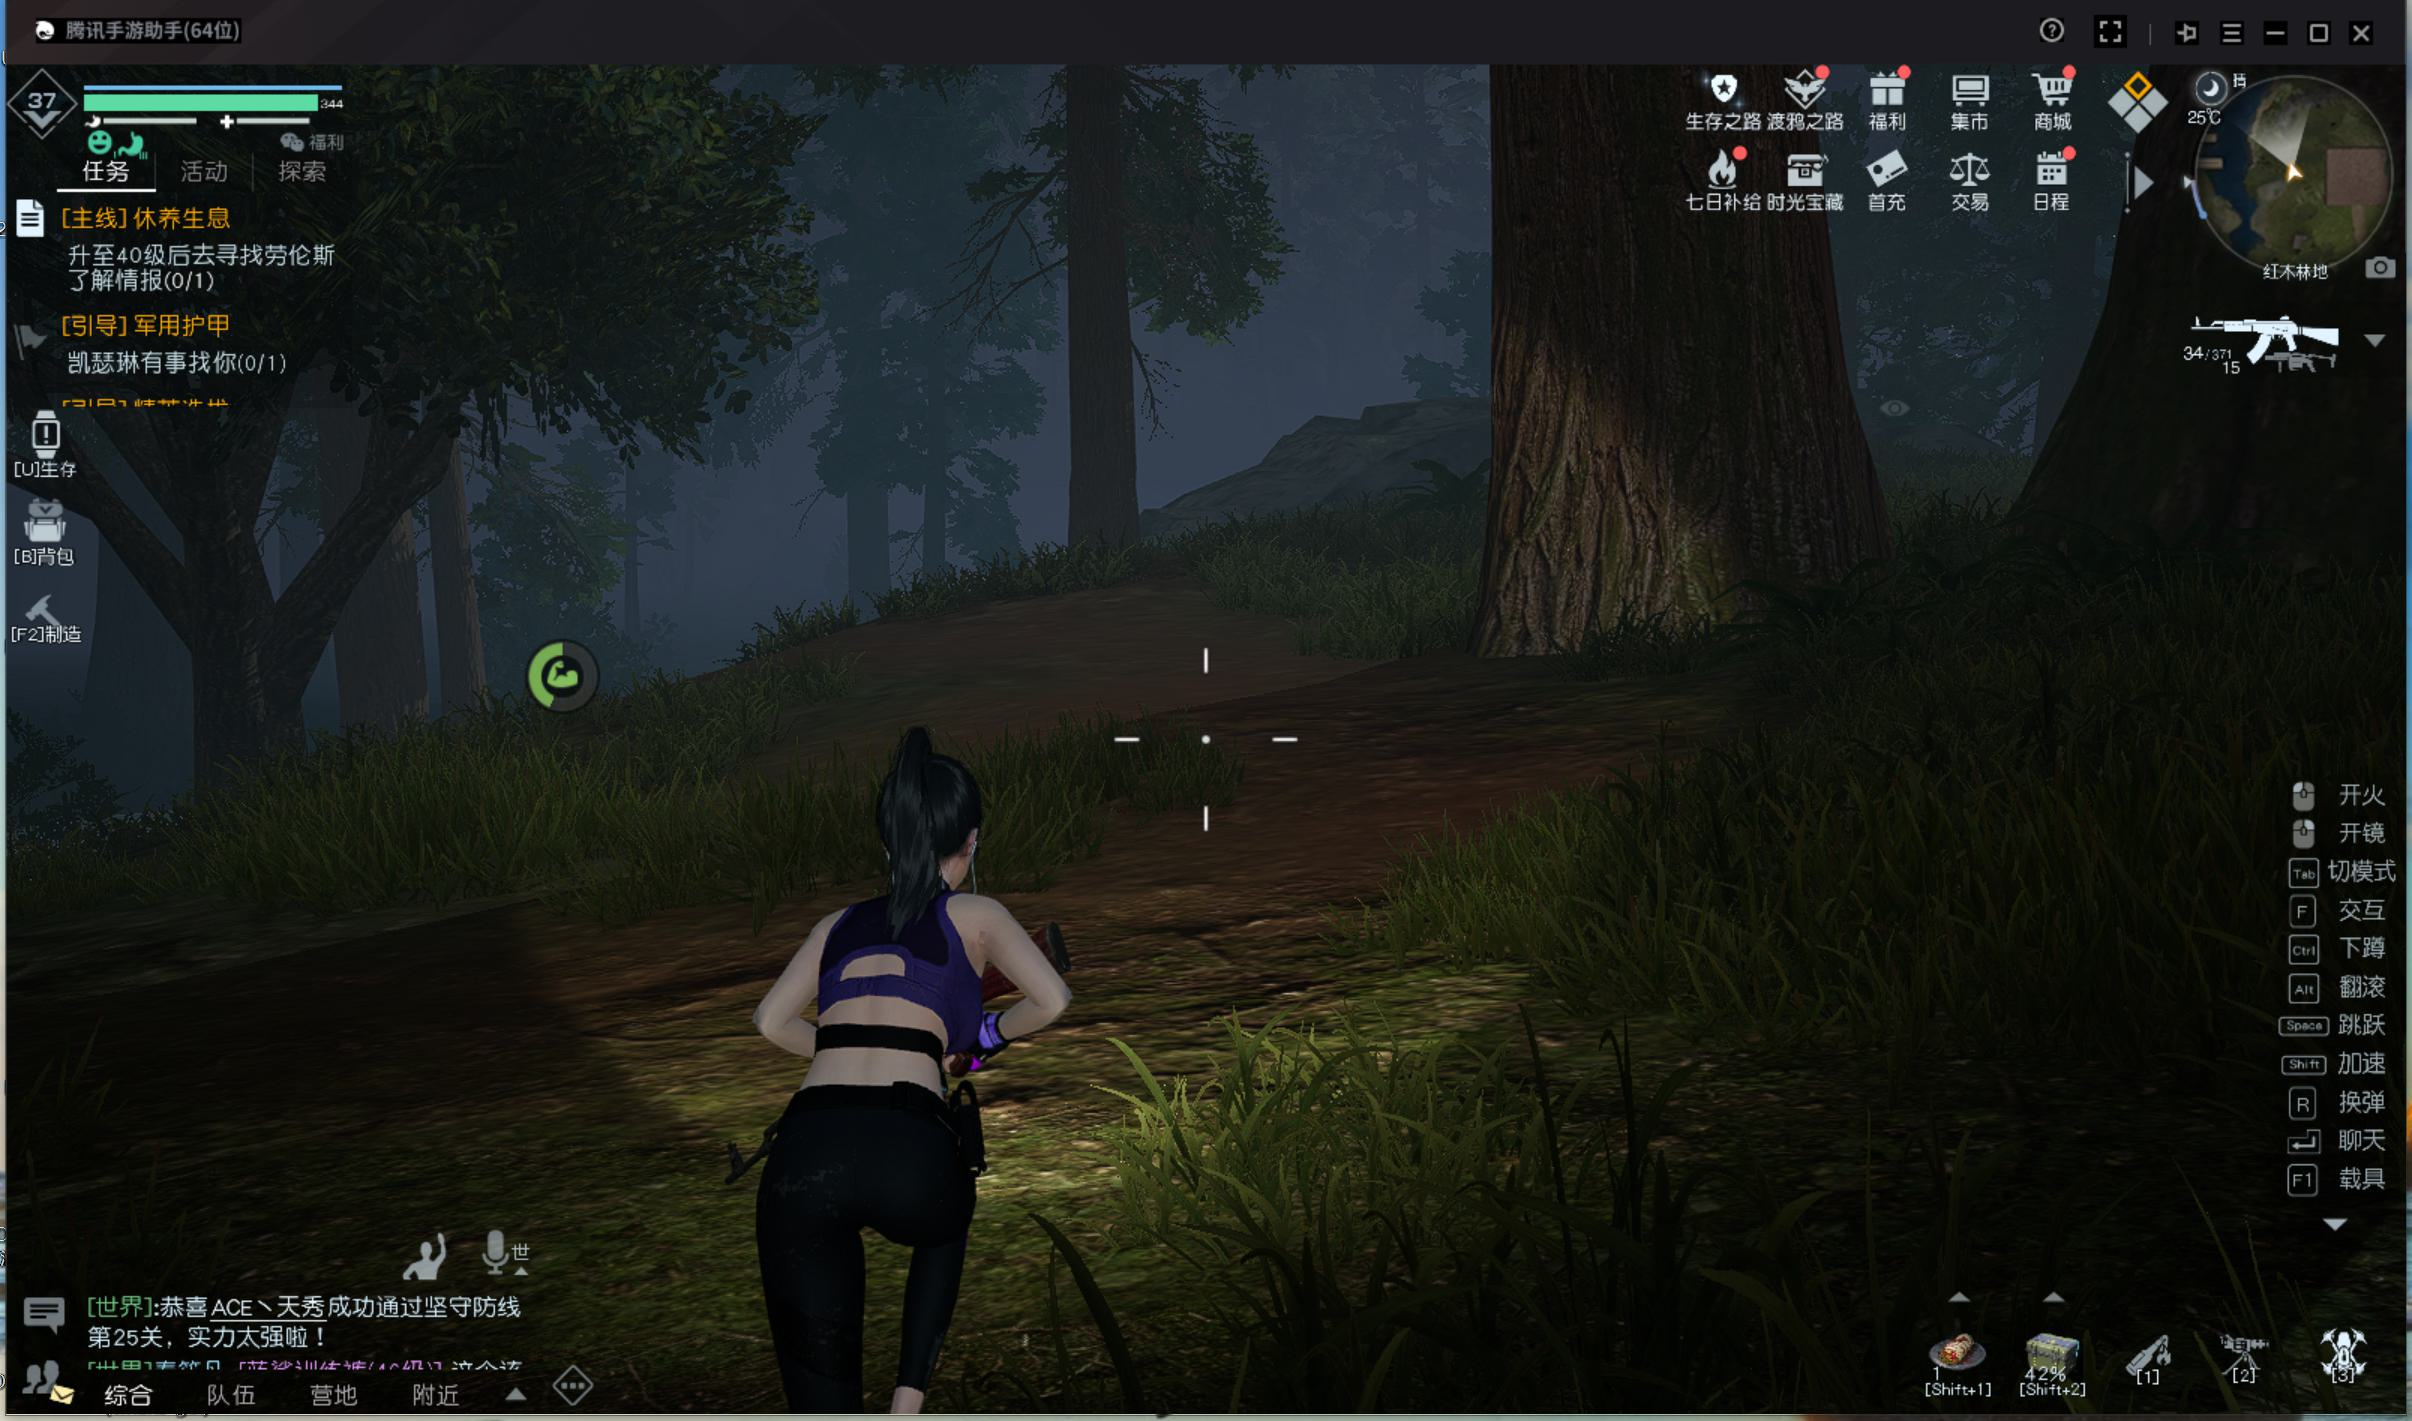tree: (1463, 90, 1893, 645), (1052, 232, 1150, 597), (416, 497, 491, 758), (829, 428, 896, 611), (920, 453, 947, 595)
